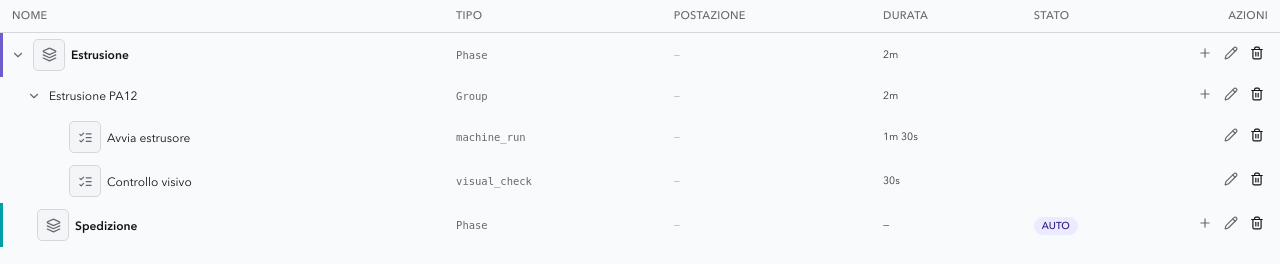
Scenario: WorkflowHierarchyTable › toggling a phase chevron collapses its descendant rows
Expected: the text "Estrusione PA12" is shown, [49, 87, 138, 105]
Click the button with test id "chevron-phase-1": coordinates (18, 55) [9, 46, 27, 64]
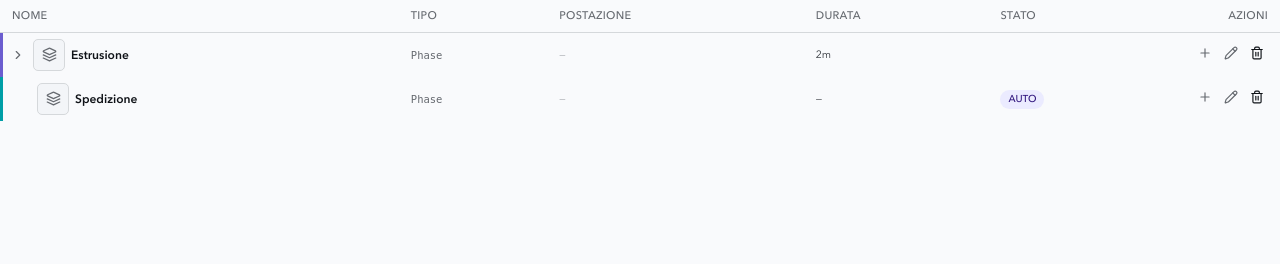
Expected: the text "Estrusione PA12" is gone
Expected: the text "Avvia estrusore" is gone
Click the button with test id "chevron-phase-1": coordinates (18, 55) [9, 46, 27, 64]
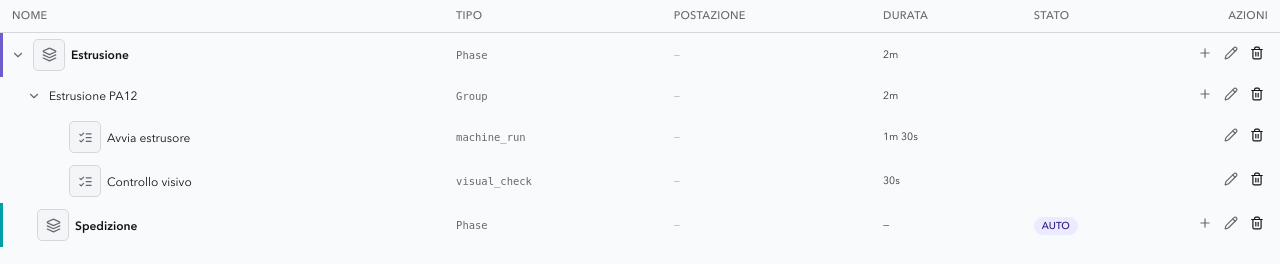
Expected: the text "Estrusione PA12" is shown, [49, 87, 138, 105]
